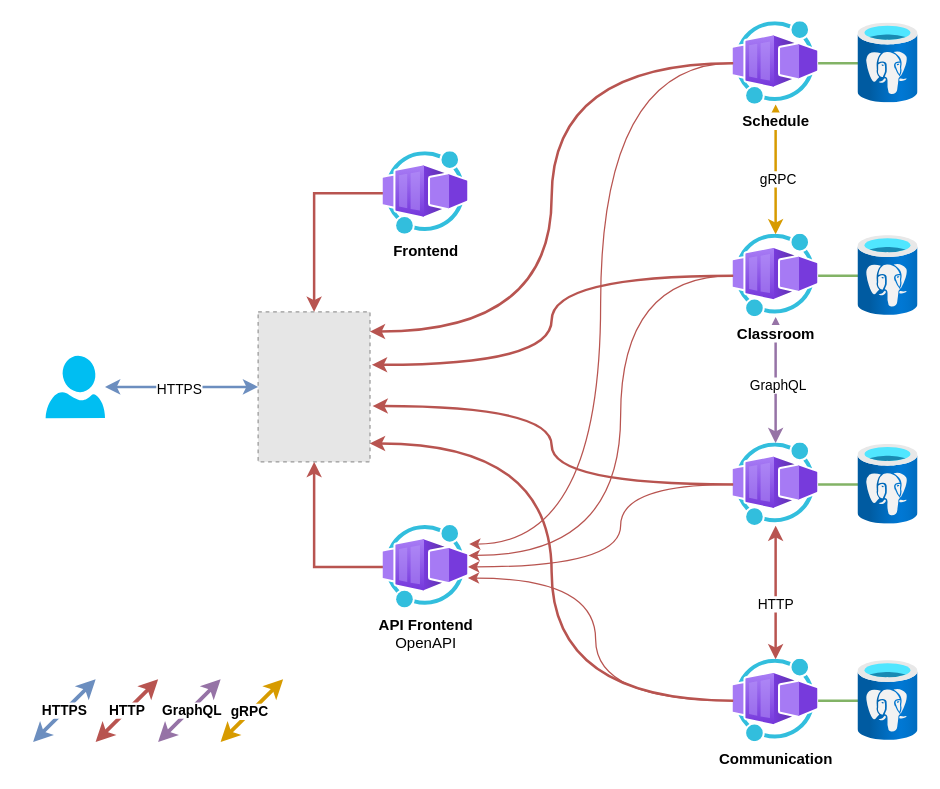
This 940x789 diagram has some shape labels left out. Grey dashed boxes stand in for pictures. Each missing label, with the box of its shape:
Uporabnik: (45, 355, 104, 418)
Users: (732, 442, 818, 525)
